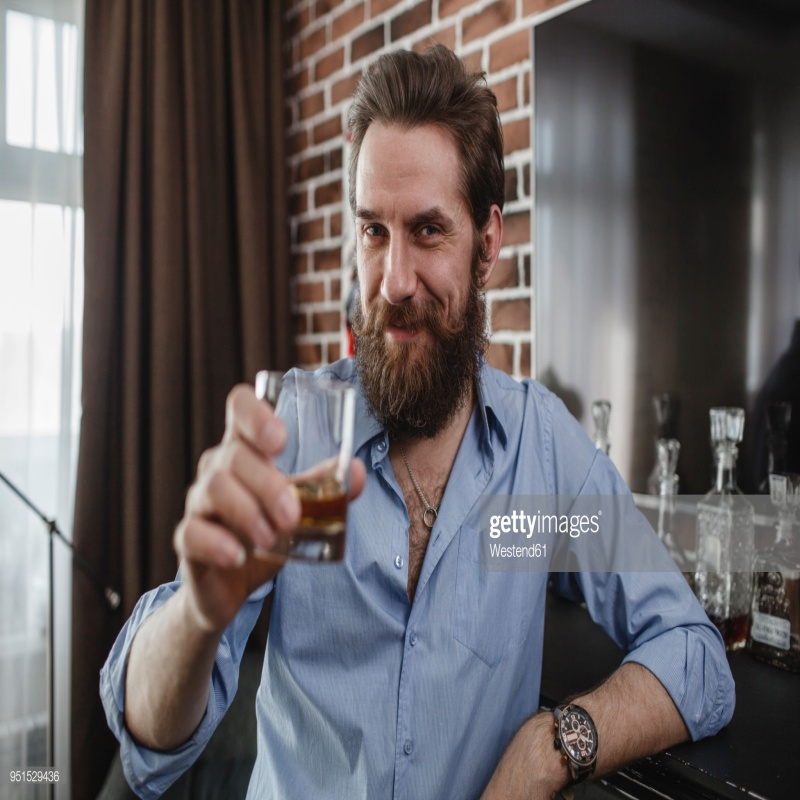whiskey: (241, 364, 370, 564)
